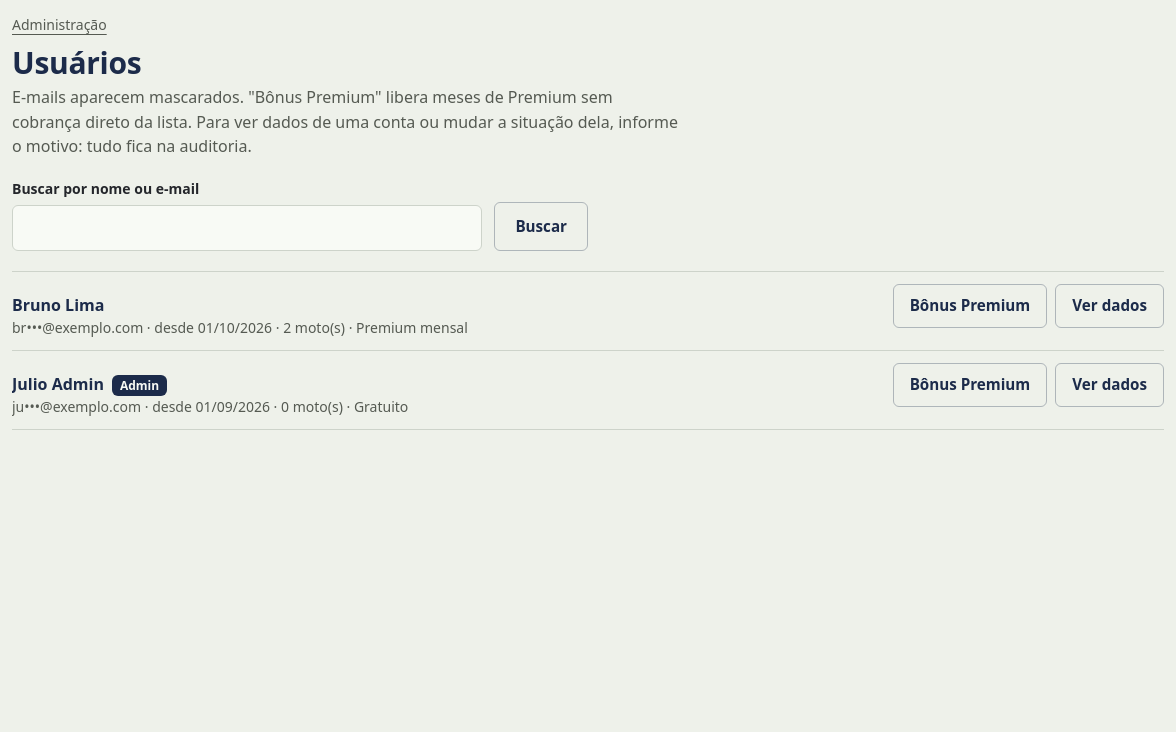
Scenario: bônus Premium sem cobrança › libera 3 meses direto da lista, sem abrir dados pessoais
The width and height of the screenshot is (1176, 732).
What coordinates should you click on to do the following:
click the button "Bônus Premium" in the row of "Premium mensal"
I would click on:
 (970, 306)
Its box is [893, 284, 1047, 328].
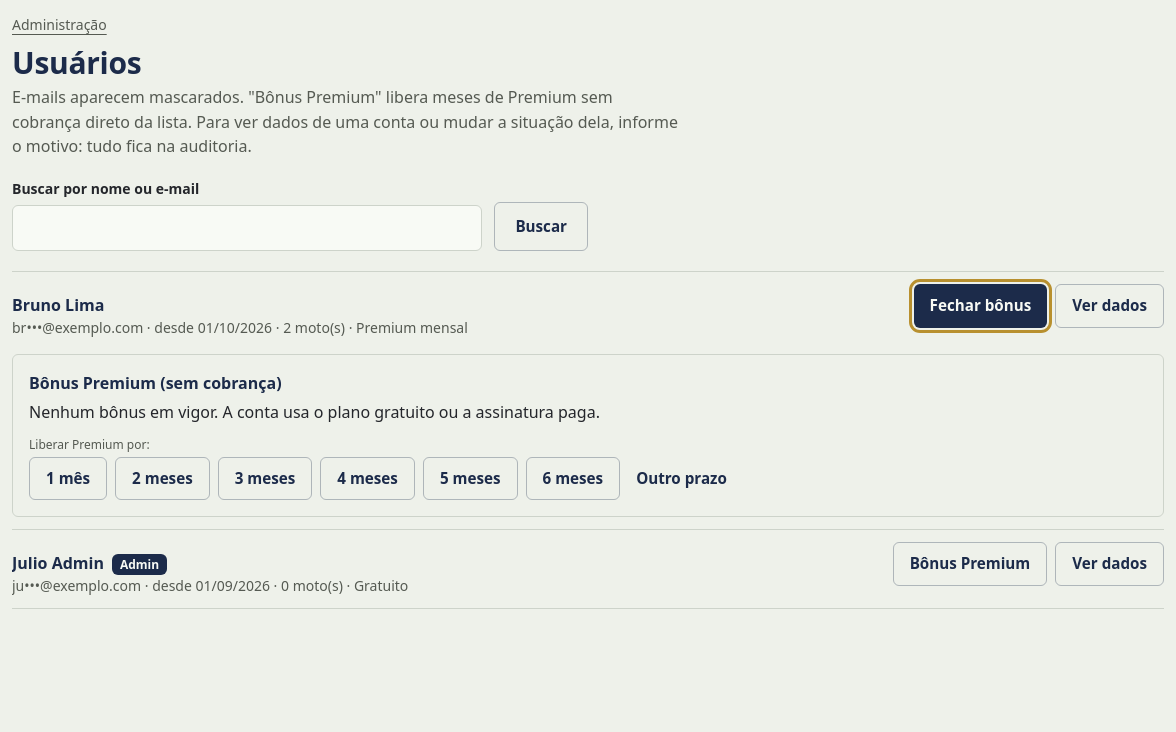
Check: the button "1 mês" is shown, box [29, 457, 107, 500]
Check: the button "2 meses" is shown, box [115, 457, 210, 500]
Check: the button "3 meses" is shown
What coordinates should you click on to do the following:
click the button "3 meses"
I would click on:
 (265, 478)
Its box is [218, 457, 312, 500].
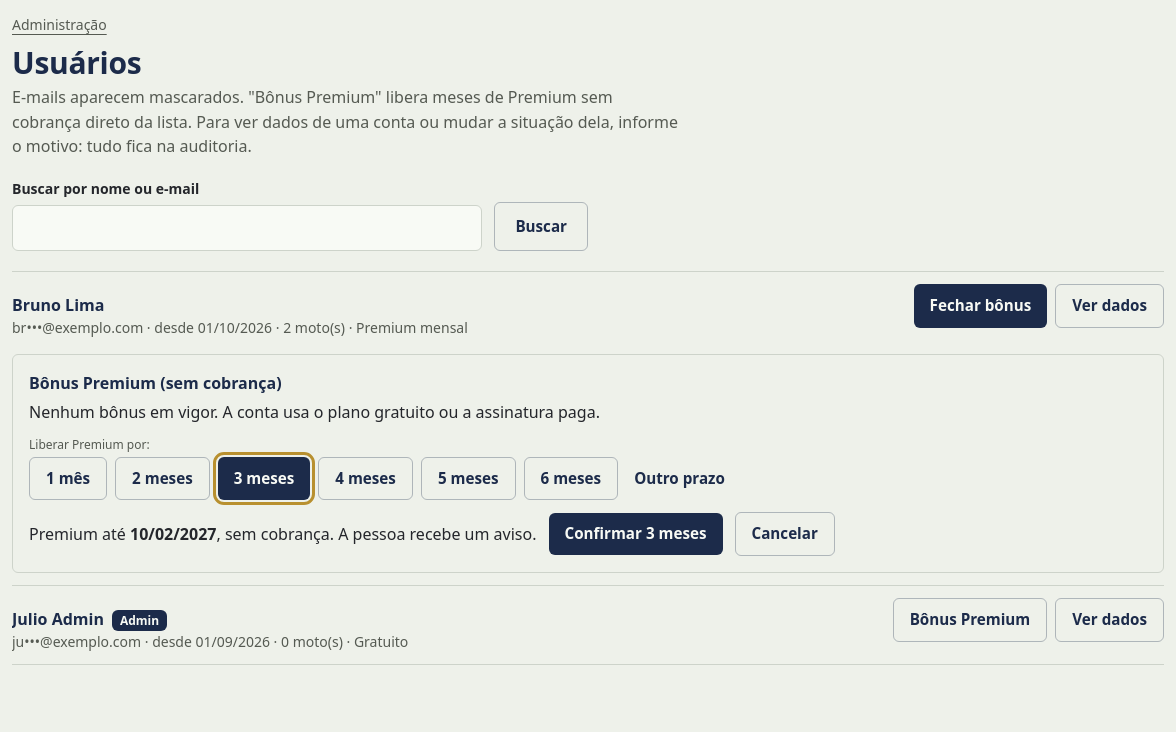
What coordinates should you click on to do the following:
click the button "Confirmar 3 meses"
I would click on:
 (636, 534)
Its box is [548, 513, 722, 555].
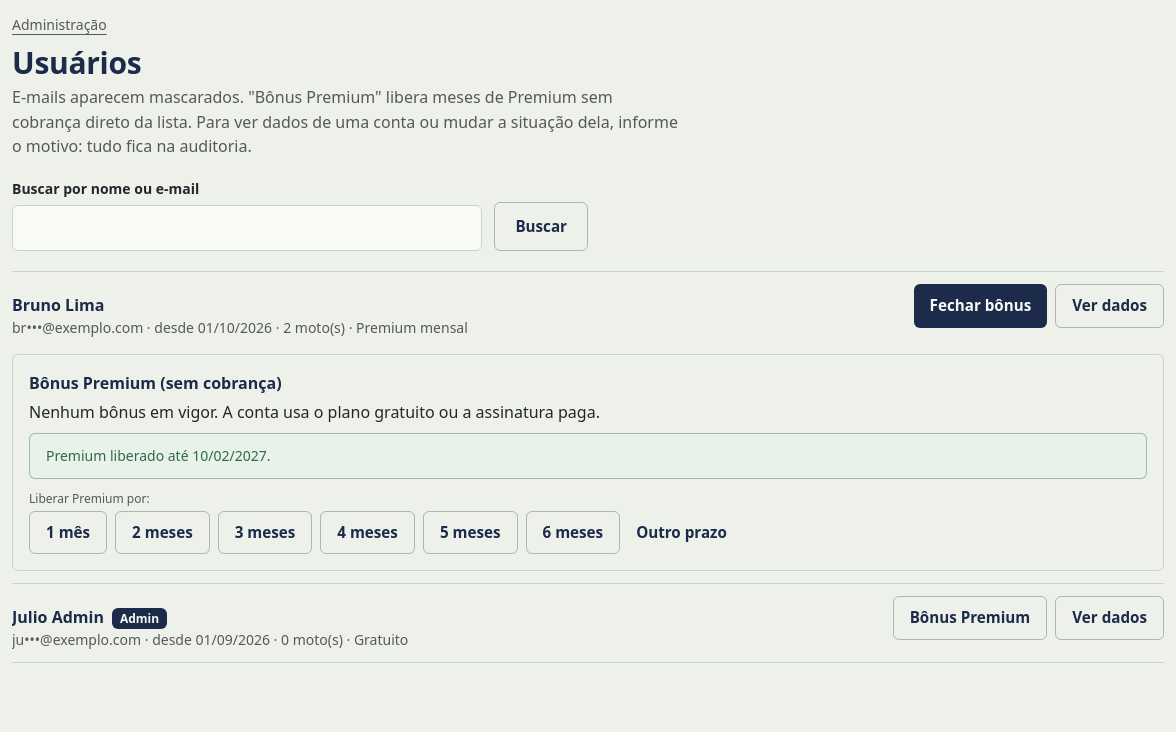
Check: the text "Premium liberado até 10/02/2027." is shown, box [46, 446, 270, 465]
